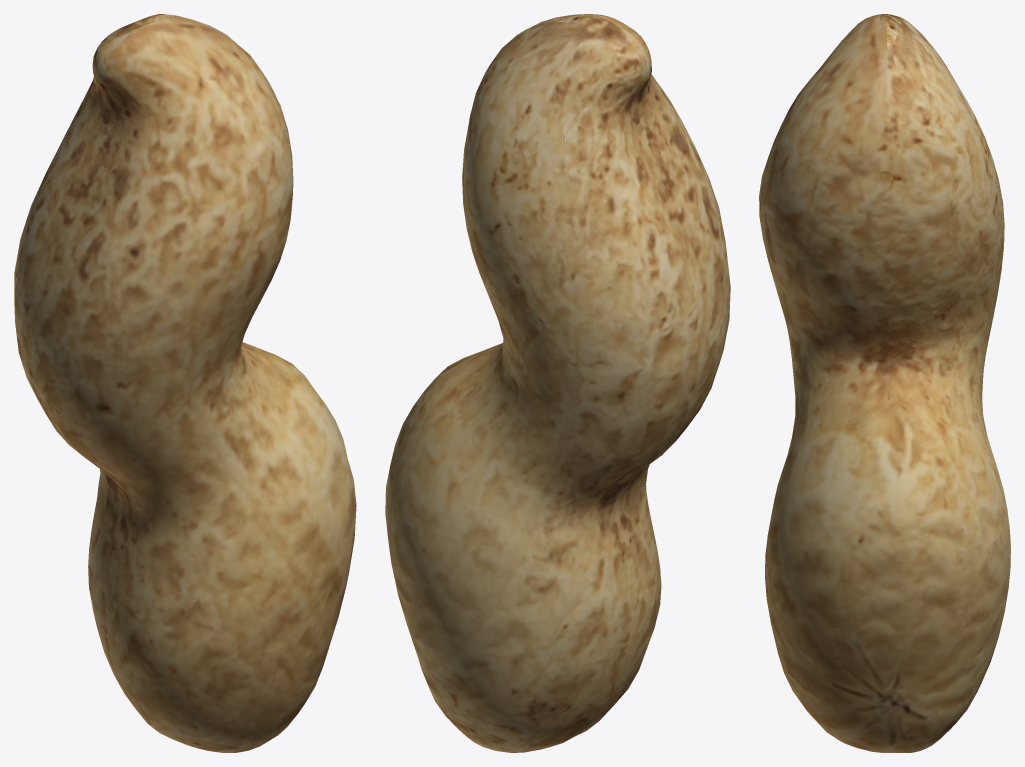
File: food_answer2.glb
The picture shows the model from 3 angles, left to right: view 1: azimuth 30°, elevation 25°; view 2: azimuth 150°, elevation 25°; view 3: azimuth 270°, elevation 25°; orthographic projection. The views are drawn at different scales.
Parts seen in each view (by area): view 1: Cylinder; view 2: Cylinder; view 3: Cylinder.
Boxes of the visible parts, x1=… form: Cylinder: x1=14, y1=14, x2=356, y2=752; Cylinder: x1=385, y1=14, x2=730, y2=752; Cylinder: x1=759, y1=14, x2=1010, y2=752.
Size of the model in its own units: 1.66 by 3.9 by 1.28.
1 material, 1 textured.
